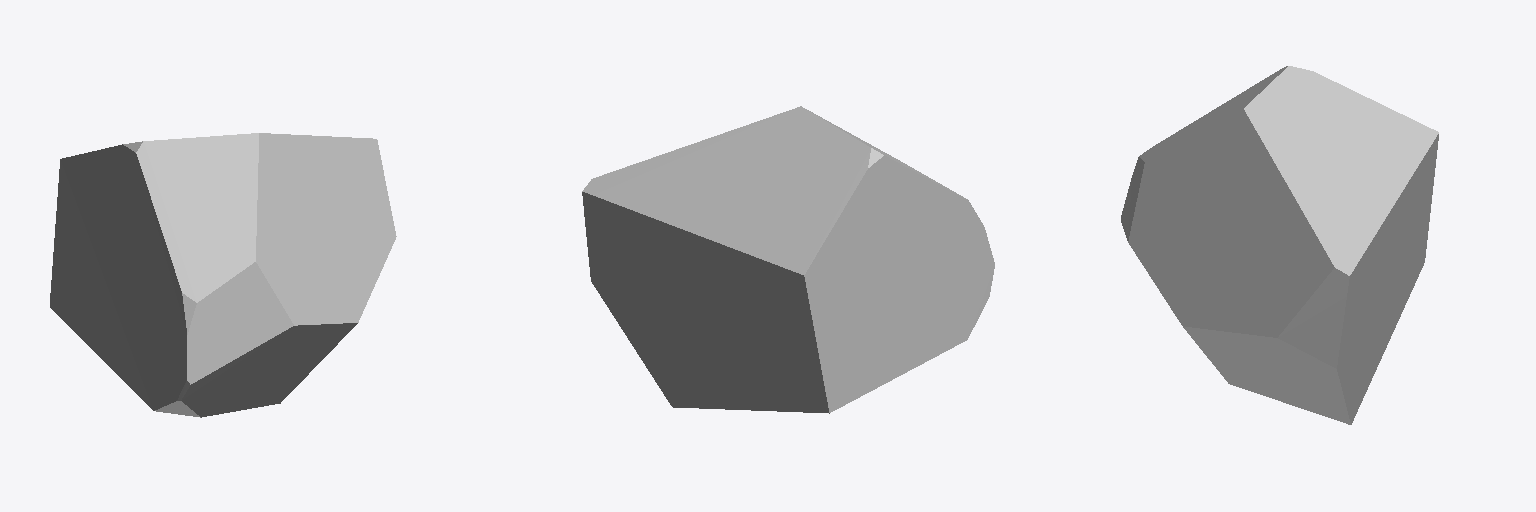
Rendered from rock.obj.
3 renders of one model, left to right at view 1: azimuth 30°, elevation 25°; view 2: azimuth 150°, elevation 25°; view 3: azimuth 270°, elevation 25°, orthographic.
Visible parts, largest first — view 1: node_id4; view 2: node_id4; view 3: node_id4.
Boxes of the visible parts, box(x1,y1,x2,y2) form: node_id4: box(50, 133, 396, 417); node_id4: box(582, 106, 994, 413); node_id4: box(1121, 66, 1438, 424).
Bounding box in the file's own units: 0.3518 × 0.3118 × 0.3217.